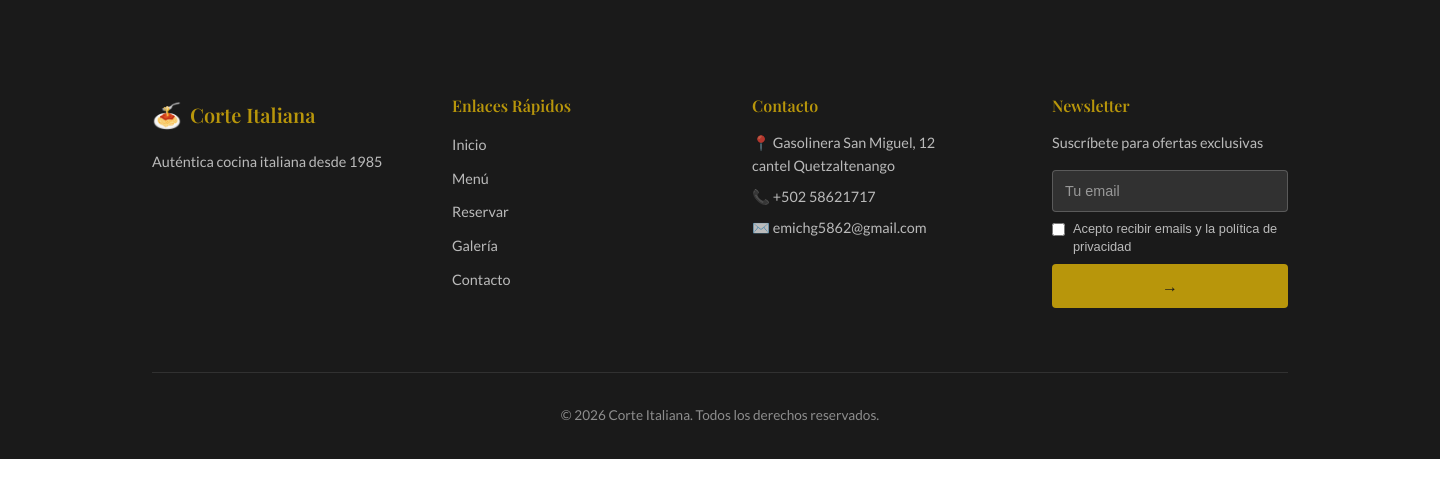
Scenario: Footer › shows error message when API request fails
In the field with placeholder "Tu email": (1170,191) [1052,170,1288,212], type "test@test.com"
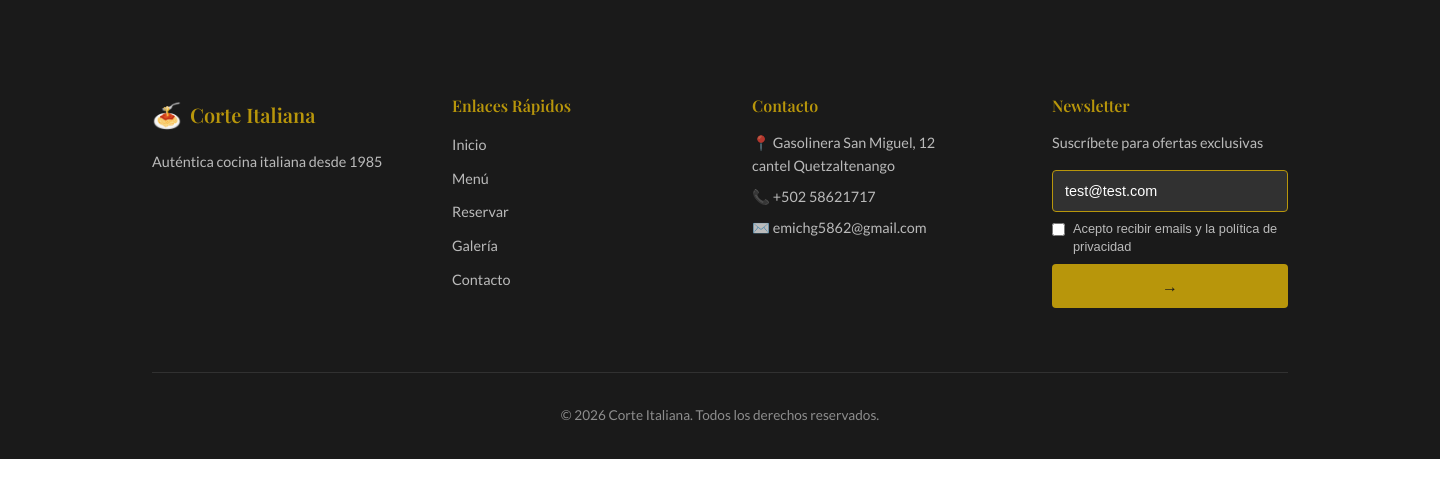
Click the checkbox: (1058,230) [1052,223,1065,236]
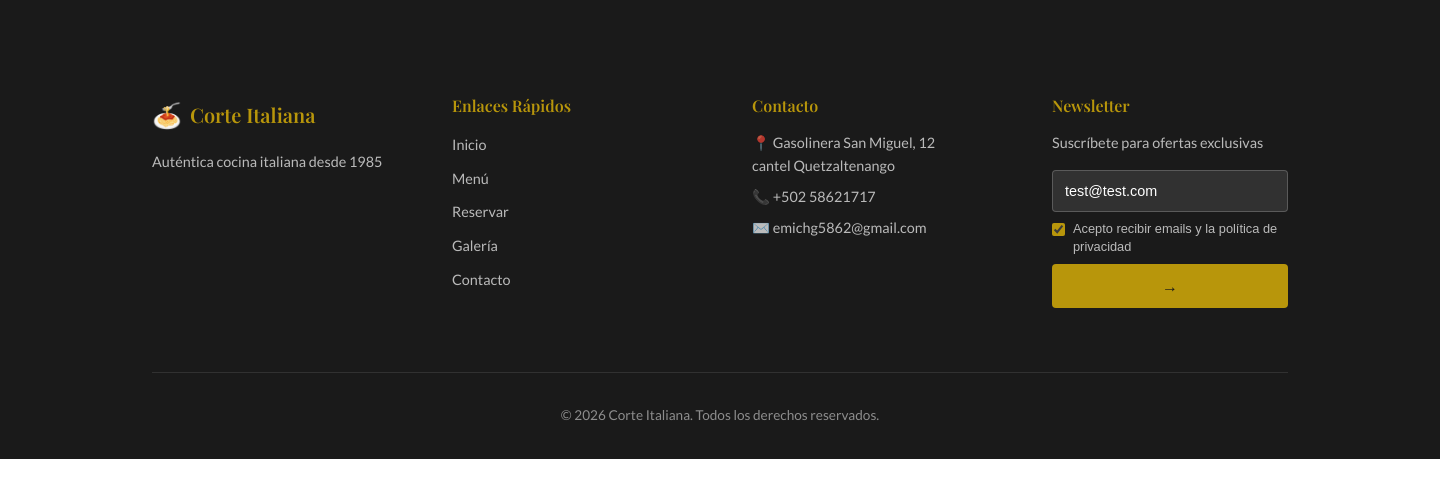
Click the button "→": (1170,286) [1052,264,1288,308]
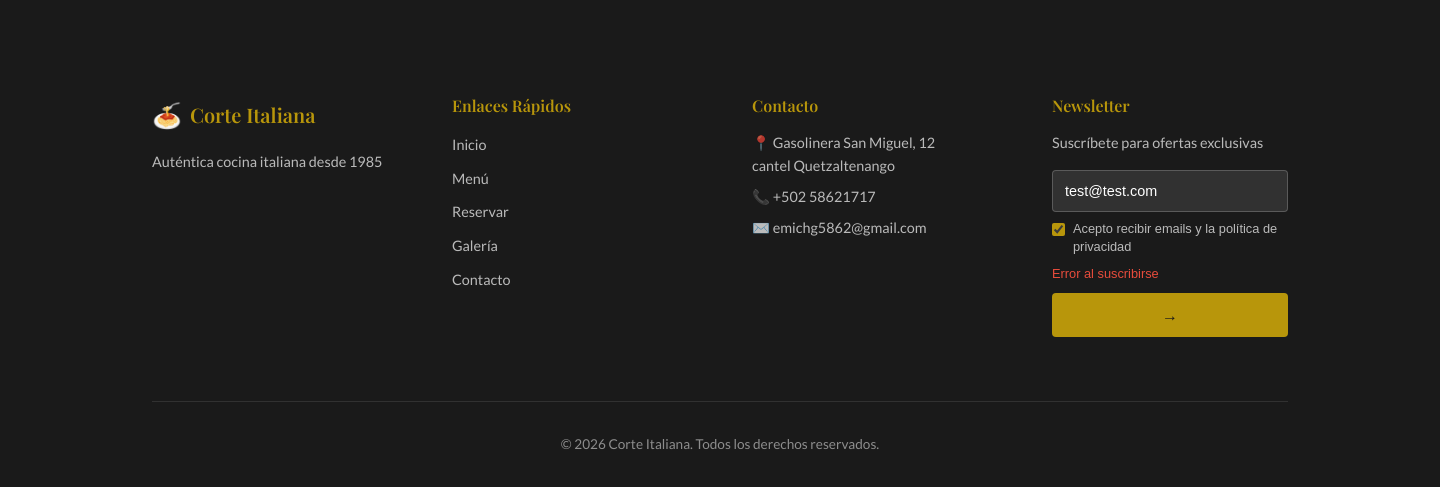
Expected: the text "Error al suscribirse" is shown, [1052,266,1159,281]
